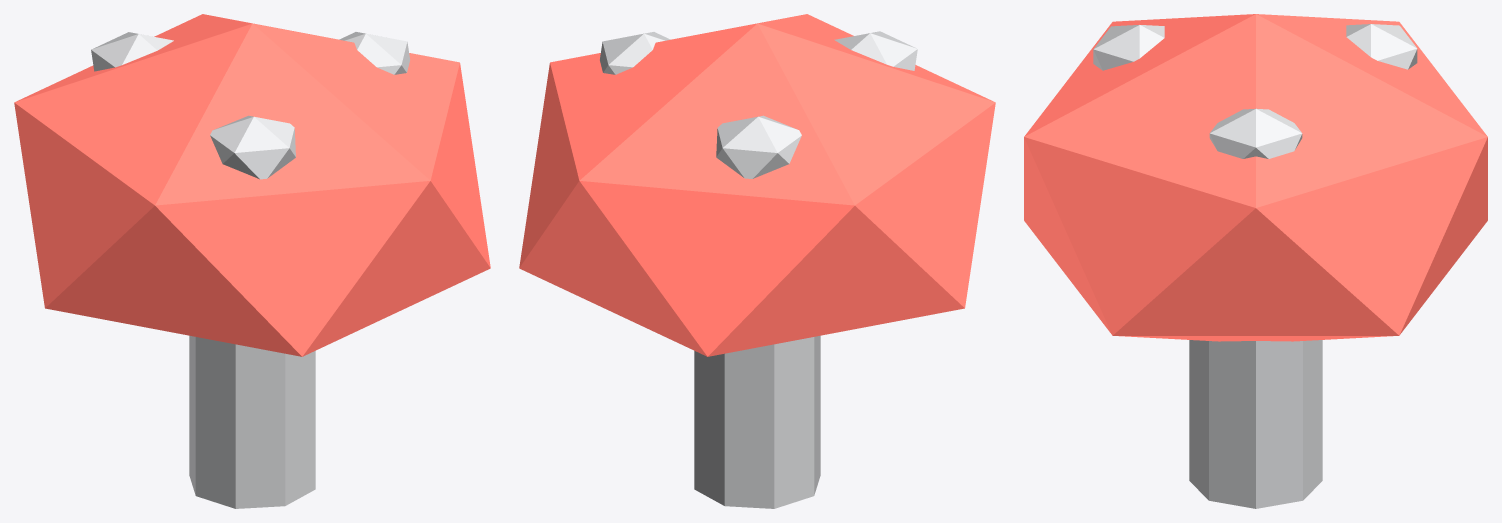
The model's file is mushroom.glb.
3 renders of one model, left to right at view 1: azimuth 30°, elevation 25°; view 2: azimuth 150°, elevation 25°; view 3: azimuth 270°, elevation 25°, orthographic.
Visible parts, largest first — view 1: MushroomStem; view 2: MushroomStem; view 3: MushroomStem.
Part boxes in pixels (box(x1,y1,x2,y2)): MushroomStem: box(14, 14, 490, 508); MushroomStem: box(519, 14, 995, 508); MushroomStem: box(1024, 14, 1487, 508).
Size of the model in its own units: 0.805 by 0.85 by 0.7656.
